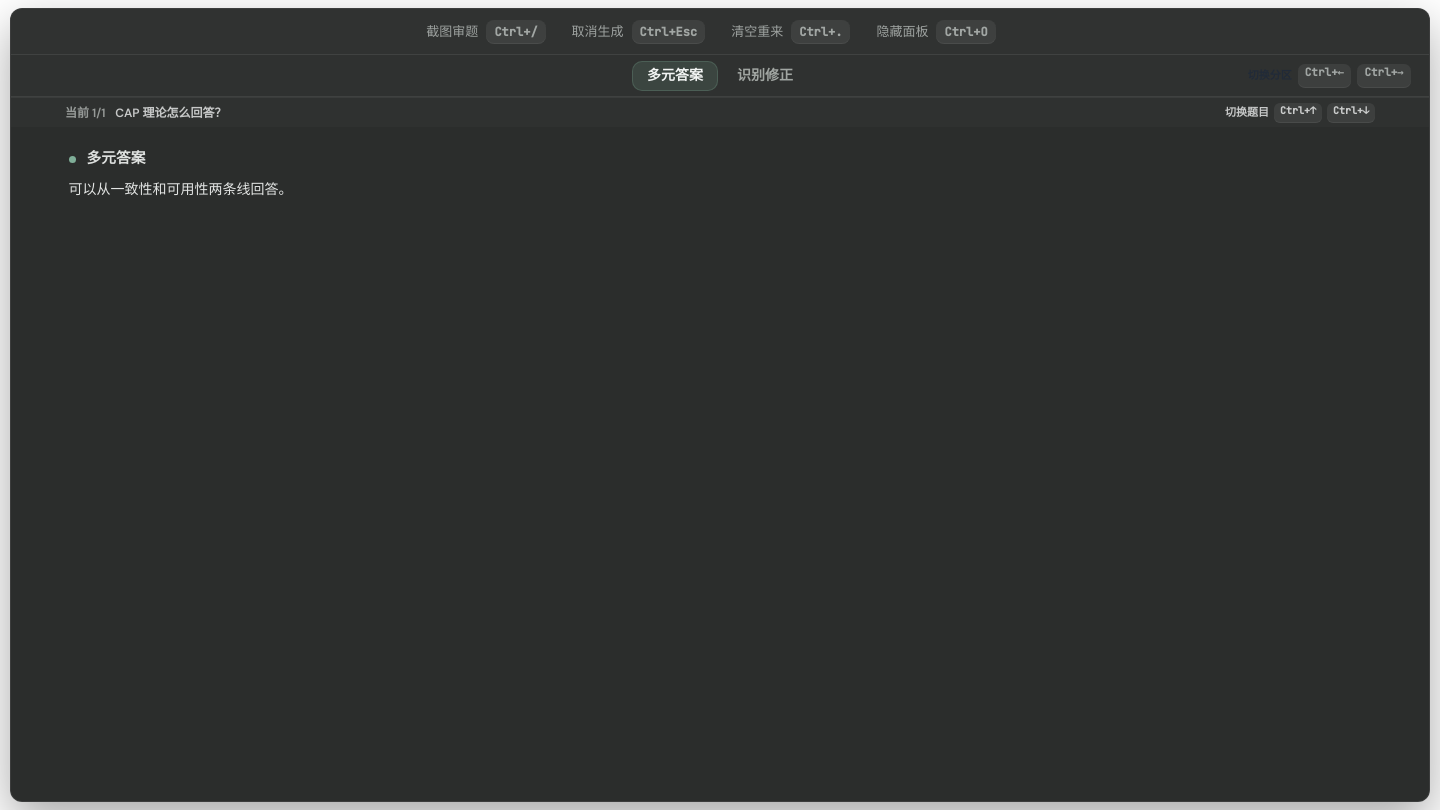
Test: InterviewOverlay › renders model-provided markdown sections as dynamic focus tabs
This screenshot has width=1440, height=810.
Check: the button "多元答案" is shown, box left=632, top=60, right=718, bottom=90
Click the button "识别修正" at [765, 76], box left=722, top=60, right=808, bottom=90
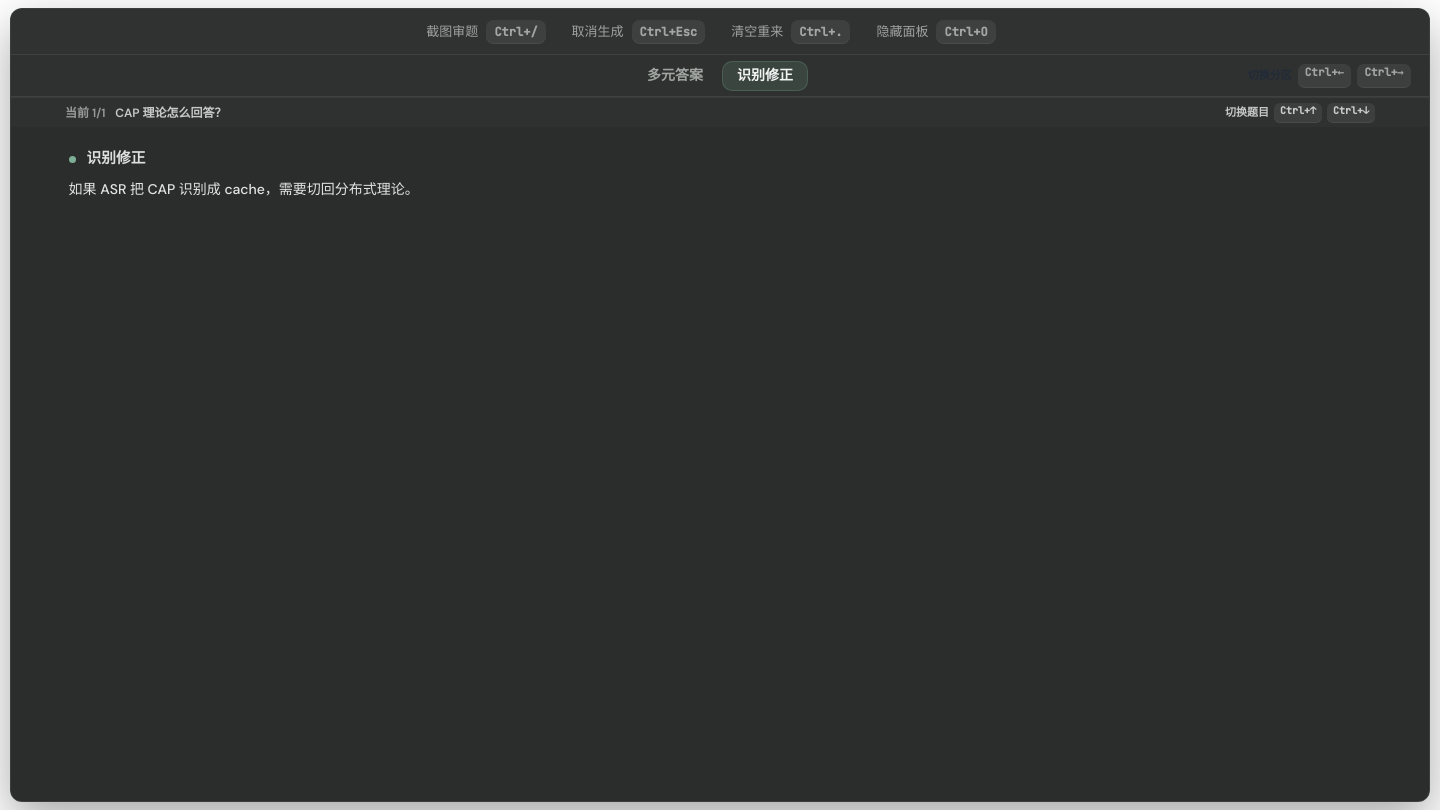
Check: the heading "识别修正" is shown, box left=87, top=148, right=145, bottom=168
Check: the text "如果 ASR 把 CAP 识别成 cache，需要切回分布式理论。" is shown, box left=69, top=180, right=419, bottom=198
